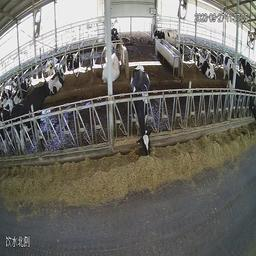cow: (125, 56, 155, 165), (10, 80, 50, 157), (227, 65, 254, 135), (151, 21, 179, 50), (192, 51, 218, 82), (101, 47, 121, 82), (0, 82, 11, 133), (63, 46, 81, 71), (221, 44, 231, 74), (111, 23, 120, 49)
